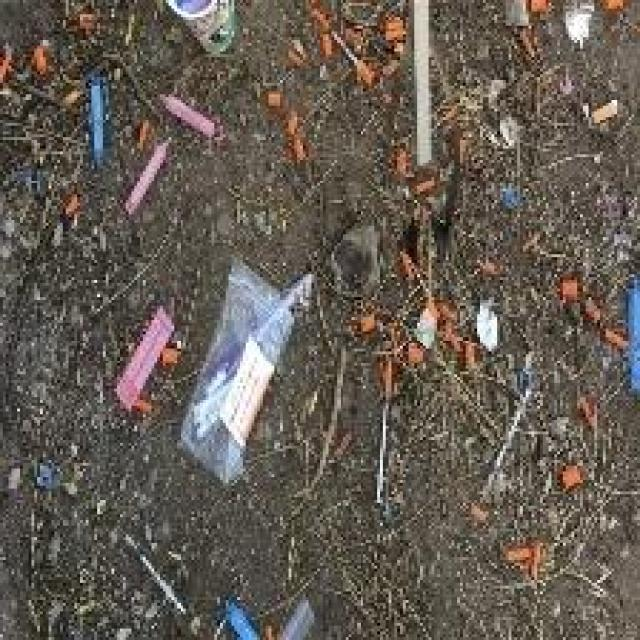syringe: (200, 247, 313, 493), (116, 531, 318, 640), (88, 74, 227, 218), (482, 368, 541, 512), (377, 368, 399, 512)
